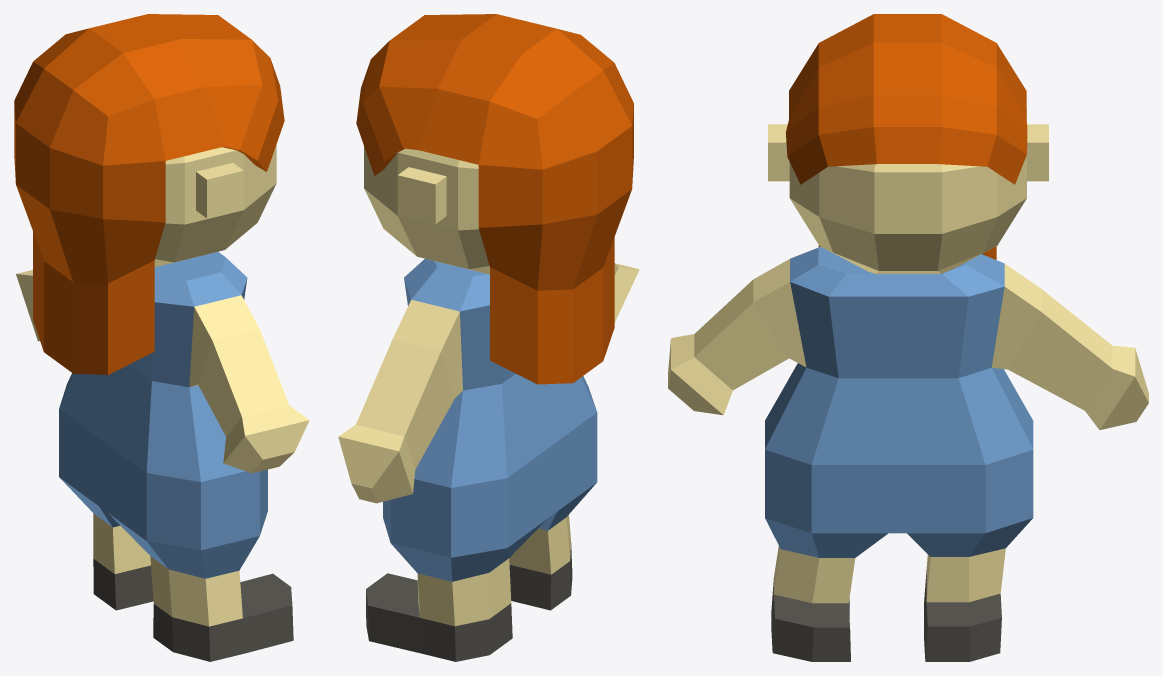
Rendered from doll-blue.fbx.
3 views of the same model, side by side, from view 1: azimuth 30°, elevation 25°; view 2: azimuth 150°, elevation 25°; view 3: azimuth 270°, elevation 25° (orthographic). The views are drawn at different scales.
Parts seen in each view (by area): view 1: girl.004; view 2: girl.004; view 3: girl.004.
Part boxes in pixels (x1=…): girl.004: x1=14, y1=14, x2=309, y2=661; girl.004: x1=338, y1=14, x2=639, y2=661; girl.004: x1=668, y1=14, x2=1148, y2=661.
Size of the model in its own units: 145 by 346 by 259.
